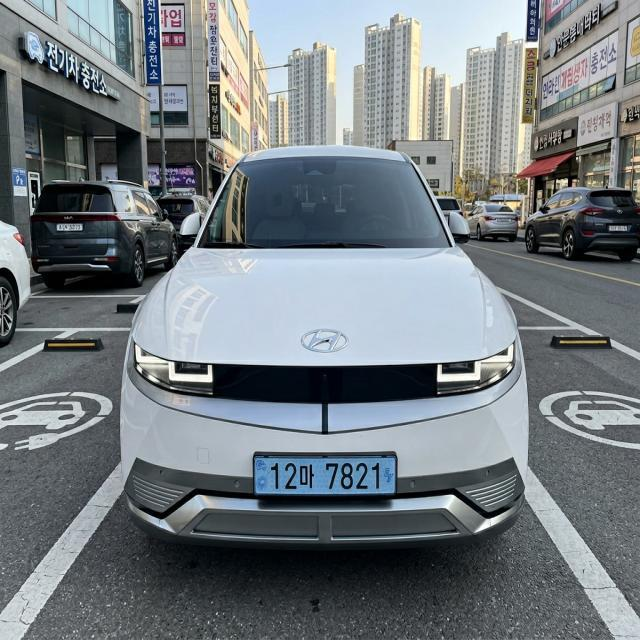car: (237, 446, 417, 511)
carev: (253, 452, 271, 498), (381, 453, 398, 500)
